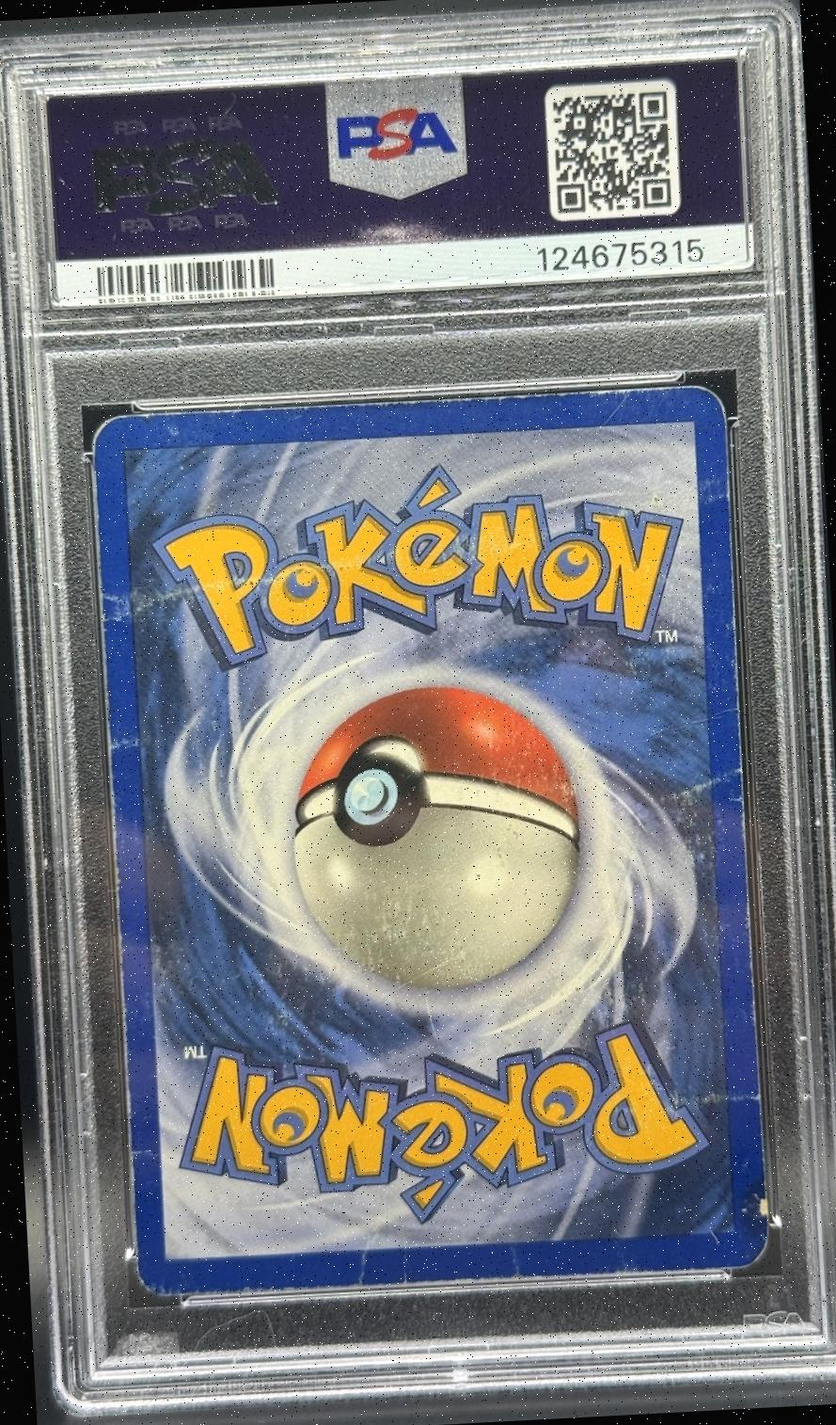card-2UtV: (90, 385, 770, 1297)
